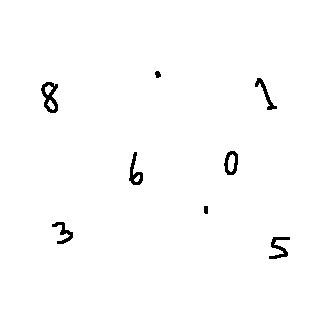.: (199, 203, 212, 228), (152, 67, 167, 80)
0: (217, 142, 256, 186)
1: (245, 70, 289, 121)
3: (44, 216, 81, 249)
5: (260, 227, 297, 268)
6: (119, 151, 157, 188)
8: (38, 75, 67, 116)
